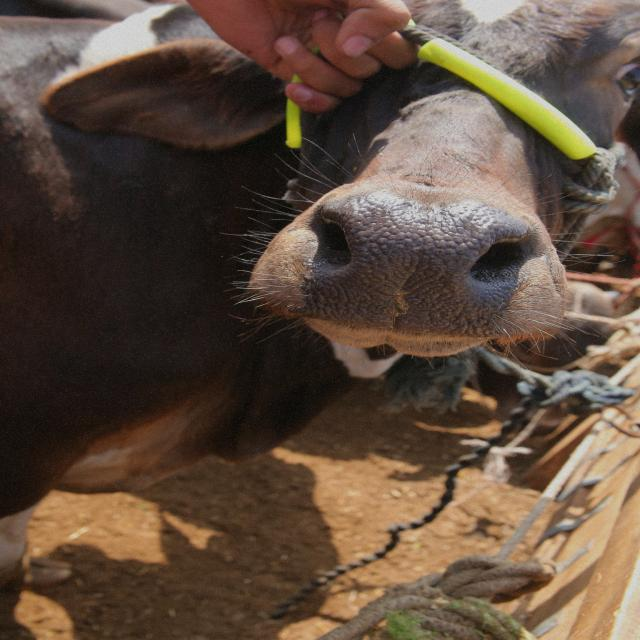muzzles: (301, 189, 532, 335)
